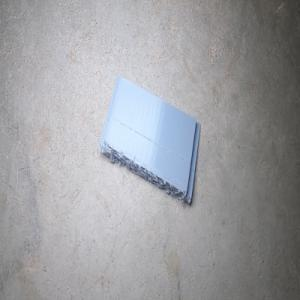PlasticPart: (97, 75, 200, 205)
